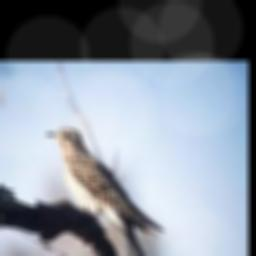Cuckoo: (46, 128, 164, 256)
